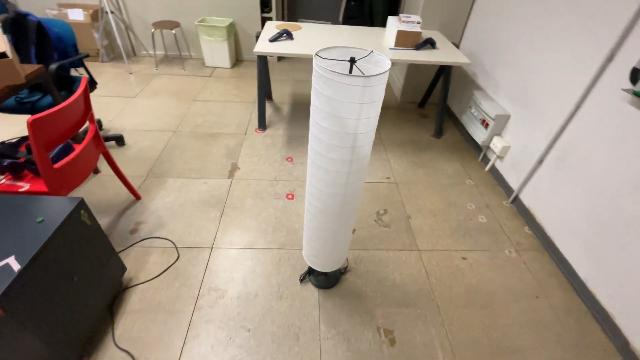Chair: (0, 71, 144, 206)
Lamp: (298, 44, 394, 292)
Stool: (147, 17, 196, 74)
